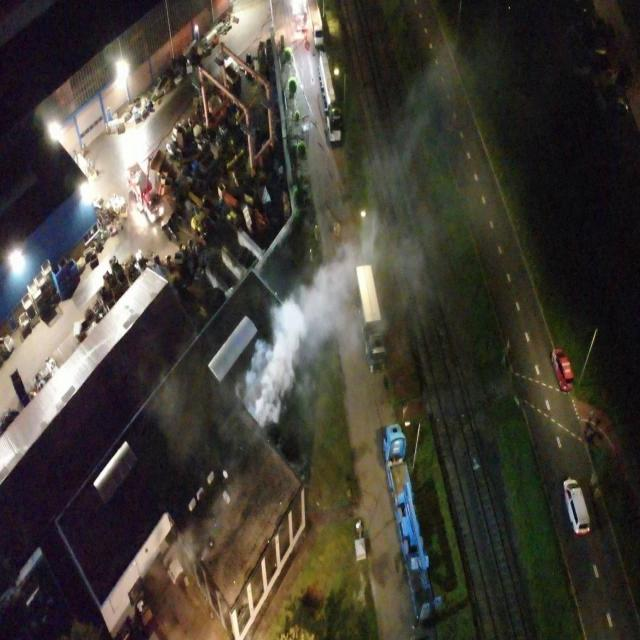Smoke: (234, 42, 493, 432), (152, 357, 260, 571)
